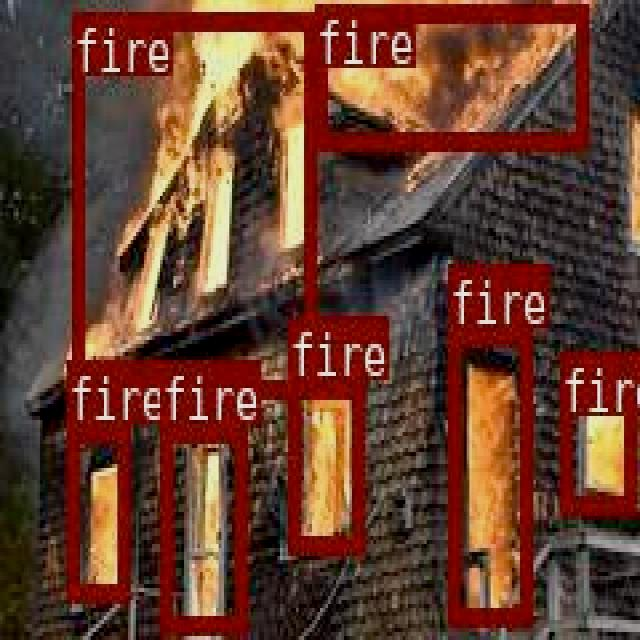fire: (72, 11, 315, 394), (312, 3, 586, 145), (448, 326, 528, 622), (159, 422, 244, 632), (288, 377, 360, 549), (559, 352, 635, 510), (64, 424, 126, 600)
